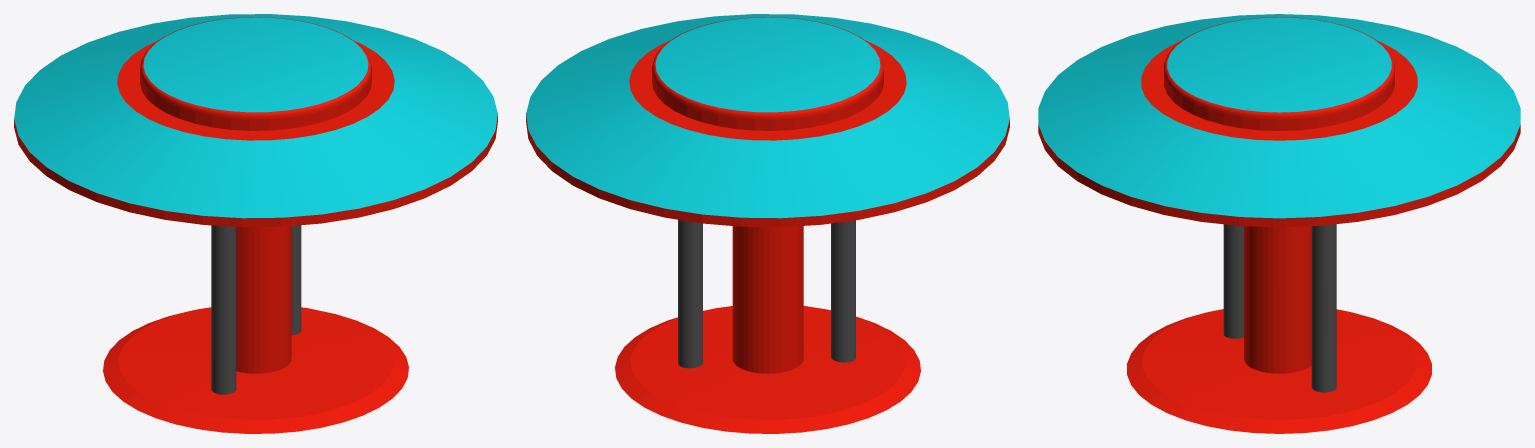
File: bumper.fbx
3 views of the same model, side by side, from view 1: azimuth 30°, elevation 25°; view 2: azimuth 150°, elevation 25°; view 3: azimuth 270°, elevation 25° (orthographic).
Parts seen in each view (by area): view 1: Bumper_Body, Bumper_Flange; view 2: Bumper_Body, Bumper_Flange; view 3: Bumper_Body, Bumper_Flange.
Part boxes in pixels (x1,y1,x2,y2): Bumper_Body: [14, 14, 497, 433]; Bumper_Flange: [211, 225, 301, 394]; Bumper_Body: [526, 14, 1009, 433]; Bumper_Flange: [678, 219, 855, 368]; Bumper_Body: [1038, 14, 1520, 433]; Bumper_Flange: [1223, 224, 1336, 392].
Size of the model in its own units: 5.26 by 3.72 by 5.24.
